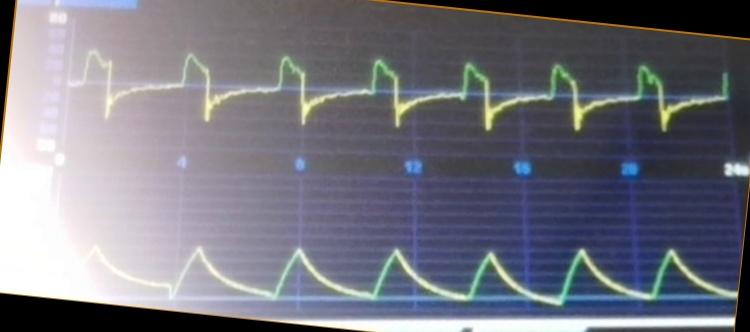Accumulation Flow: (72, 42, 732, 154)
Volume: (67, 206, 736, 308)
